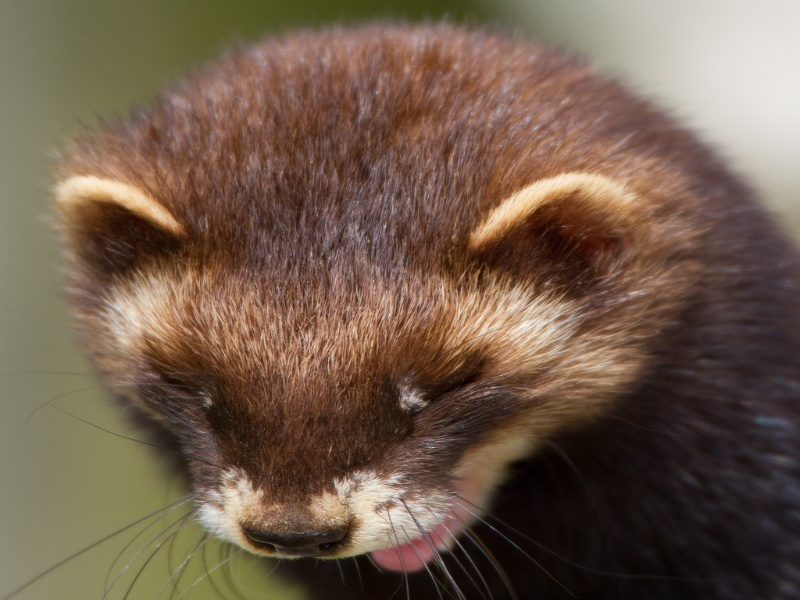minkish: (53, 19, 794, 590)
